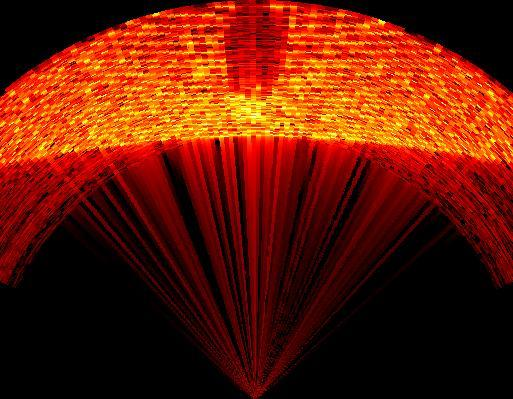box_crate: (220, 0, 287, 127)
